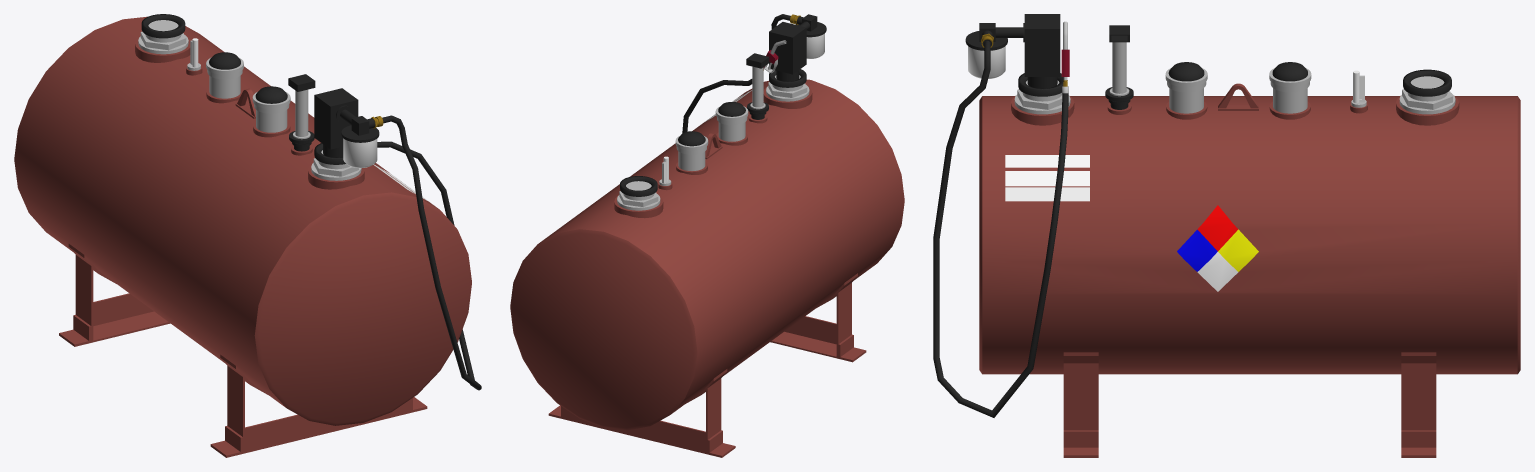
Rendered from Tank.fbx.
The picture shows the model from 3 angles, left to right: view 1: azimuth 30°, elevation 25°; view 2: azimuth 150°, elevation 25°; view 3: azimuth 270°, elevation 25°; orthographic projection. The views are drawn at different scales.
Visible parts, largest first — view 1: Group3, Group14, Group16, Group18, Group17, Group9, top_cap1, top_cap2, Group10, legs1, legs2, Group6 (+3 smaller); view 2: Group3, Group14, Group17, Group18, Group9, Group10, top_cap2, top_cap1, legs1, legs2, Group6, Group16 (+3 smaller); view 3: Group3, Group16, Group14, Group9, legs1, legs2, Group10, top_cap2, top_cap1, Group6, Group2, Group4 (+4 smaller).
Boxes of the visible parts, left/top/right/bottom form: Group3: left=14, top=16, right=471, bottom=425; Group14: left=314, top=88, right=383, bottom=157; Group16: left=377, top=115, right=481, bottom=390; Group18: left=245, top=401, right=408, bottom=453; Group17: left=93, top=293, right=170, bottom=342; Group9: left=135, top=14, right=190, bottom=62; top_cap1: left=252, top=86, right=290, bottom=137; top_cap2: left=206, top=52, right=243, bottom=103; Group10: left=308, top=143, right=364, bottom=189; legs1: left=68, top=244, right=115, bottom=342; legs2: left=220, top=354, right=410, bottom=453; Group6: left=289, top=89, right=314, bottom=155; Group3: left=510, top=79, right=904, bottom=430; Group14: left=769, top=14, right=826, bottom=81; Group17: left=564, top=409, right=705, bottom=453; Group18: left=770, top=316, right=836, bottom=358; Group9: left=614, top=176, right=663, bottom=218; Group10: left=763, top=69, right=812, bottom=108; top_cap2: left=675, top=131, right=708, bottom=174; top_cap1: left=715, top=102, right=748, bottom=145; legs1: left=563, top=369, right=727, bottom=454; legs2: left=817, top=273, right=857, bottom=358; Group6: left=747, top=66, right=768, bottom=123; Group16: left=682, top=14, right=790, bottom=133; Group3: left=979, top=96, right=1520, bottom=374; Group16: left=933, top=41, right=1068, bottom=417; Group14: left=965, top=14, right=1060, bottom=88; Group9: left=1396, top=69, right=1459, bottom=125; legs1: left=1401, top=352, right=1436, bottom=430; legs2: left=1063, top=352, right=1098, bottom=430; Group10: left=1011, top=73, right=1074, bottom=125; top_cap2: left=1269, top=62, right=1311, bottom=119; top_cap1: left=1165, top=62, right=1207, bottom=119; Group6: left=1105, top=42, right=1133, bottom=114; Group2: left=1005, top=171, right=1089, bottom=186; Group4: left=1005, top=187, right=1089, bottom=201.
Size of the model in its own units: 1290 by 1838 by 2563.
